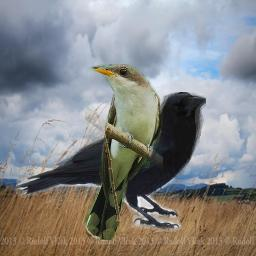Crow: (16, 92, 206, 232)
Cuckoo: (85, 64, 163, 241)
